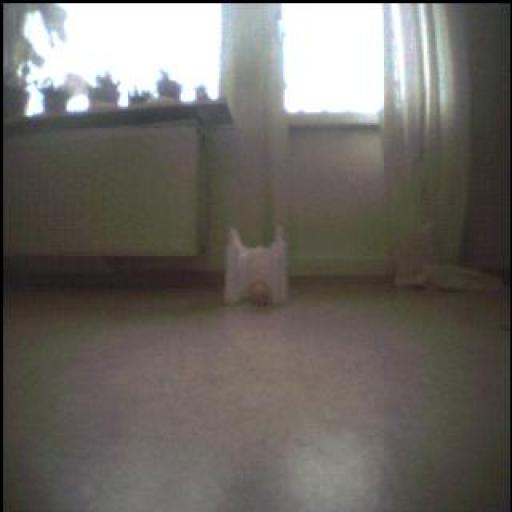Basket: (247, 276, 277, 309)
